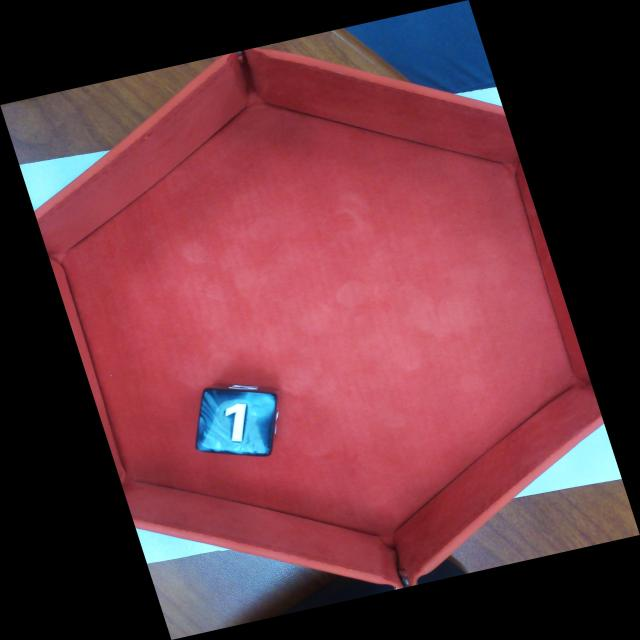dice: (196, 389, 277, 454)
